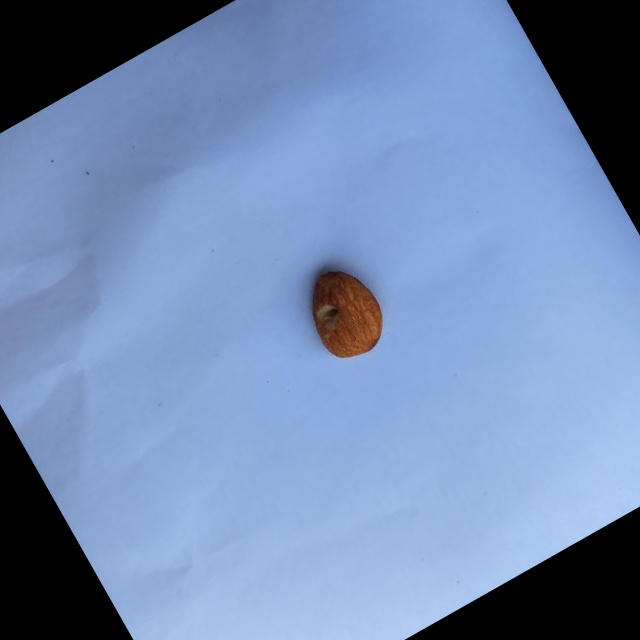grade3: (287, 252, 400, 375)
